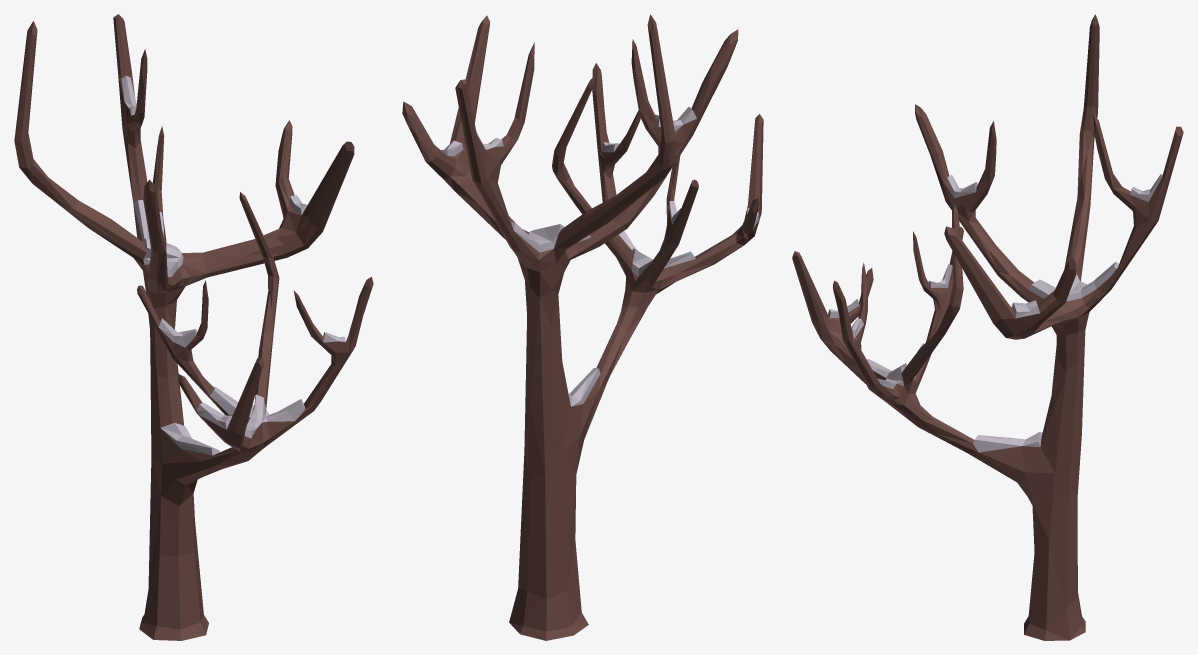
The model's file is CommonTree_Dead_Snow_2.lod1.glb.
3 views of the same model, side by side, from view 1: azimuth 30°, elevation 25°; view 2: azimuth 150°, elevation 25°; view 3: azimuth 270°, elevation 25° (orthographic). The views are drawn at different scales.
Visible parts, largest first — view 1: CommonTree_Dead_Snow_2; view 2: CommonTree_Dead_Snow_2; view 3: CommonTree_Dead_Snow_2.
Part boxes in pixels (<box>): CommonTree_Dead_Snow_2: <box>14,14,373,640</box>; CommonTree_Dead_Snow_2: <box>402,14,763,640</box>; CommonTree_Dead_Snow_2: <box>792,14,1183,640</box>.
Size of the model in its own units: 1.33 by 2.96 by 1.87.
